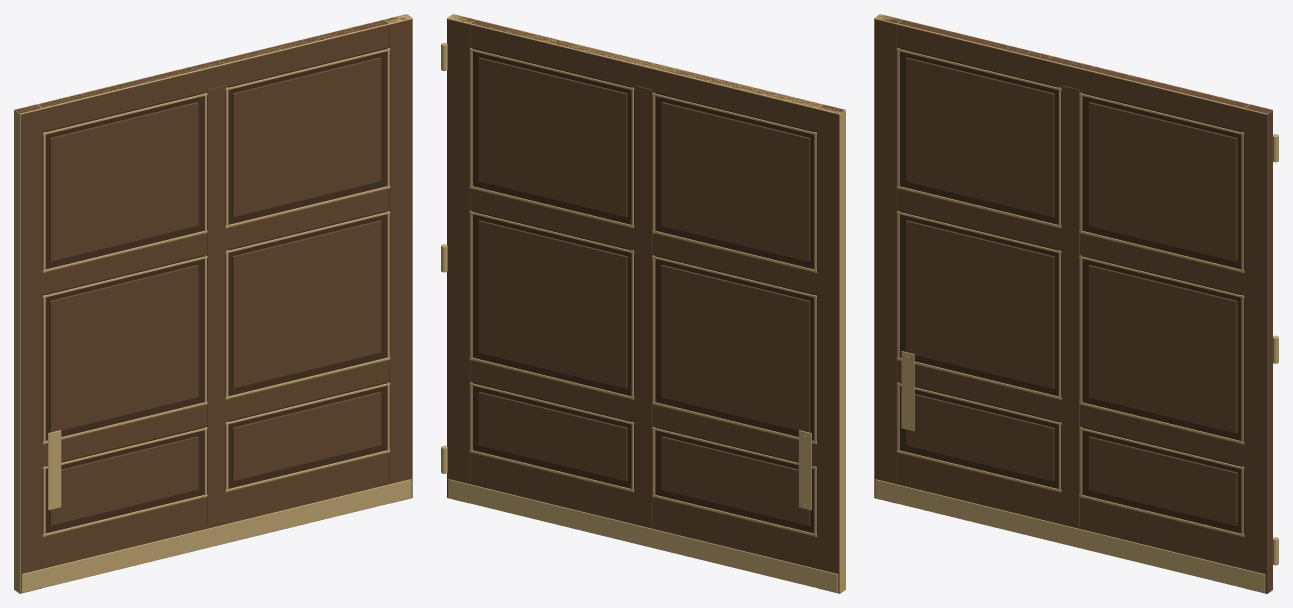
Rendered from inner_door.glb.
The picture shows the model from 3 angles, left to right: view 1: azimuth 30°, elevation 25°; view 2: azimuth 150°, elevation 25°; view 3: azimuth 330°, elevation 25°; orthographic projection.
Visible parts, largest first — view 1: id_walnut; view 2: id_walnut; view 3: id_walnut.
Boxes of the visible parts, x1=… form: id_walnut: x1=14, y1=14, x2=412, y2=593; id_walnut: x1=441, y1=14, x2=845, y2=593; id_walnut: x1=874, y1=14, x2=1278, y2=593.
Size of the model in its own units: 4.86 by 5.6 by 0.198.
